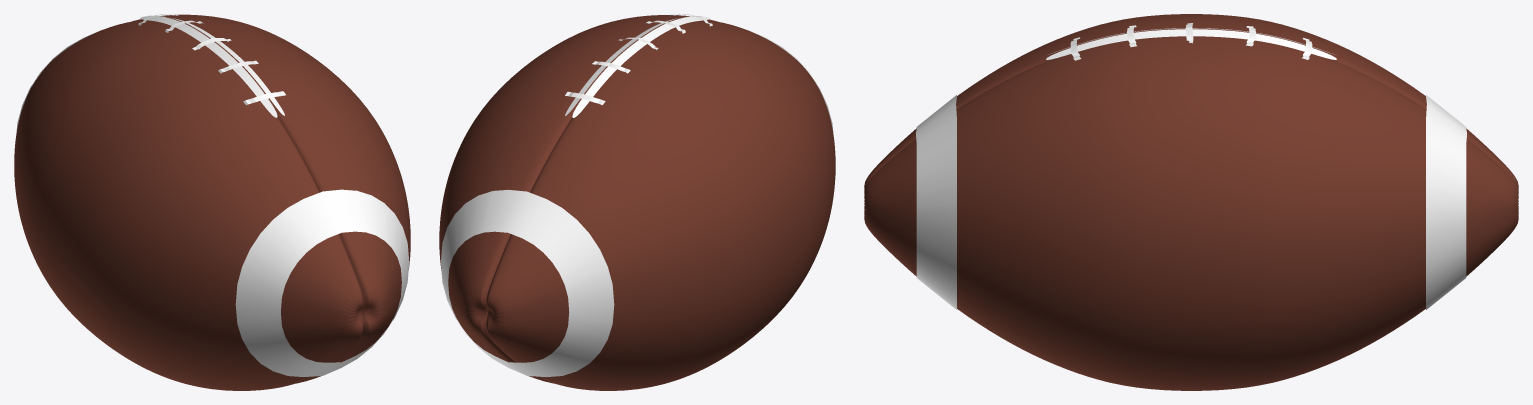
File: EUAsoccer-transformed.glb
The picture shows the model from 3 angles, left to right: view 1: azimuth 30°, elevation 25°; view 2: azimuth 150°, elevation 25°; view 3: azimuth 270°, elevation 25°; orthographic projection. The views are drawn at different scales.
Parts seen in each view (by area): view 1: EUAsoccerV2; view 2: EUAsoccerV2; view 3: EUAsoccerV2.
Part boxes in pixels (x1,y1,x2,y2): EUAsoccerV2: (14, 14, 410, 390); EUAsoccerV2: (439, 14, 835, 390); EUAsoccerV2: (864, 14, 1518, 390).
Bounding box in the file's own units: 0.3613 × 0.3672 × 0.6304.
